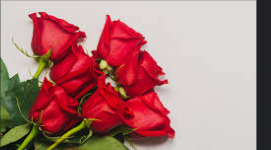RedRose: (28, 70, 78, 135), (29, 7, 83, 66), (82, 82, 133, 142), (124, 93, 183, 142), (114, 49, 175, 95), (48, 47, 102, 95), (98, 12, 146, 66)
